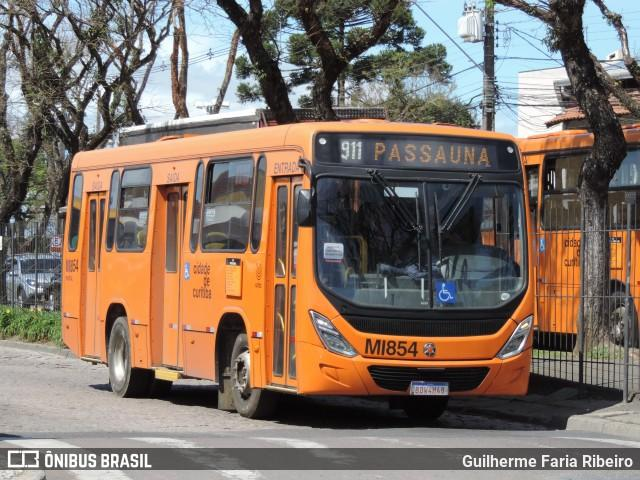PASSAUNA: (368, 138, 494, 171)
